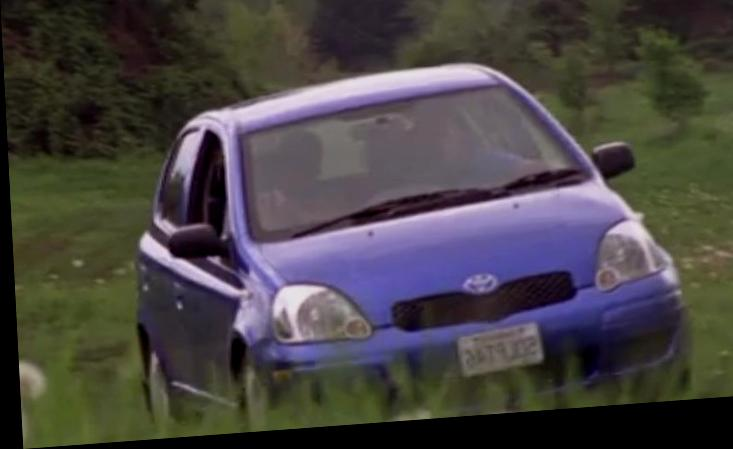License_Plate: (451, 317, 548, 385)
